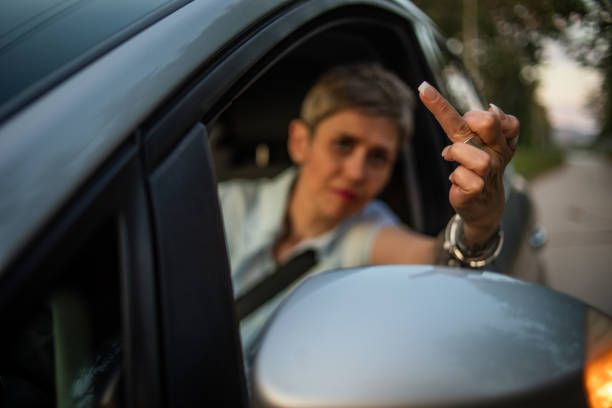insulting_gesture: (417, 79, 522, 232)
